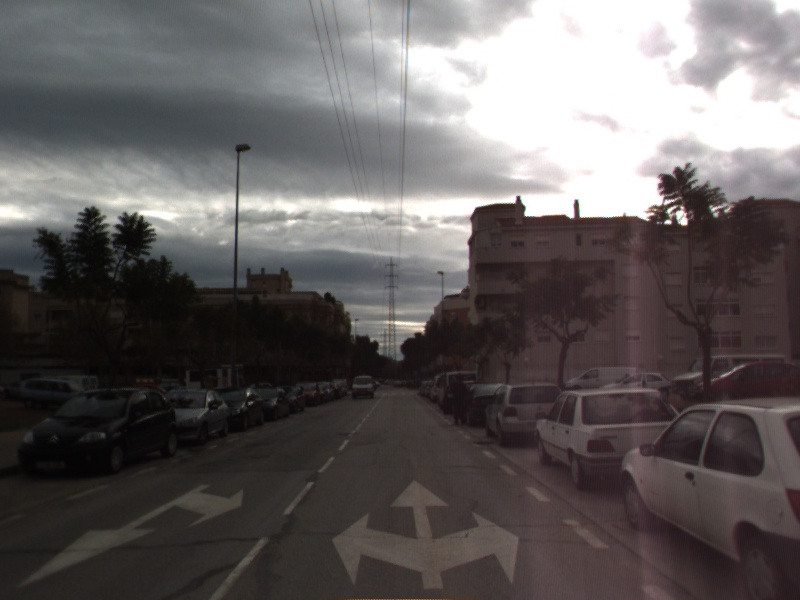STRAIGHT_LEFT_RIGHT: (329, 476, 522, 591)
